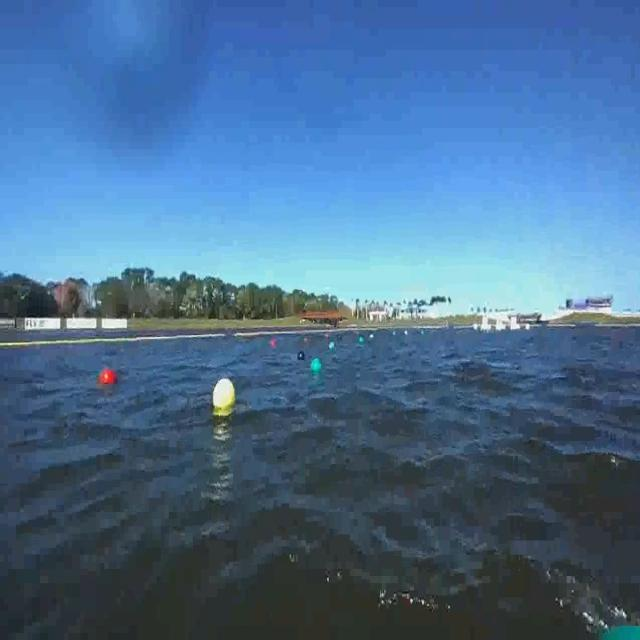black-buoy: (298, 349, 306, 365)
green-buoy: (310, 356, 322, 375)
red-buoy: (98, 368, 116, 385)
yellow-buoy: (212, 377, 235, 408)
